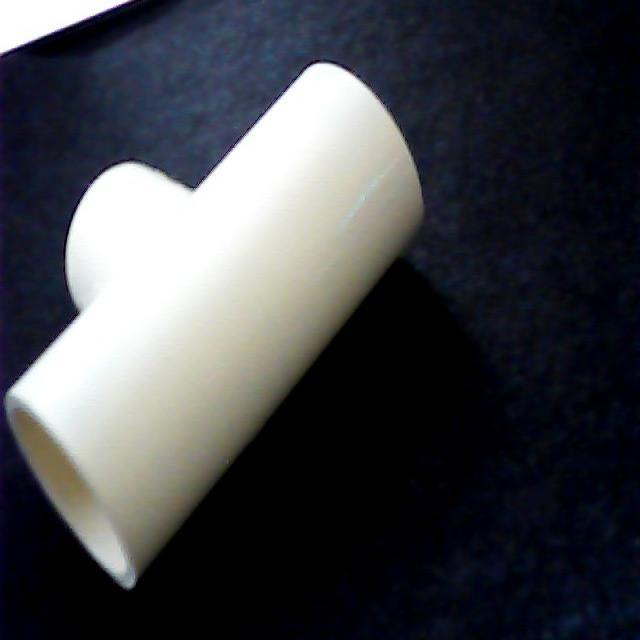T Joint: (6, 61, 425, 594)
